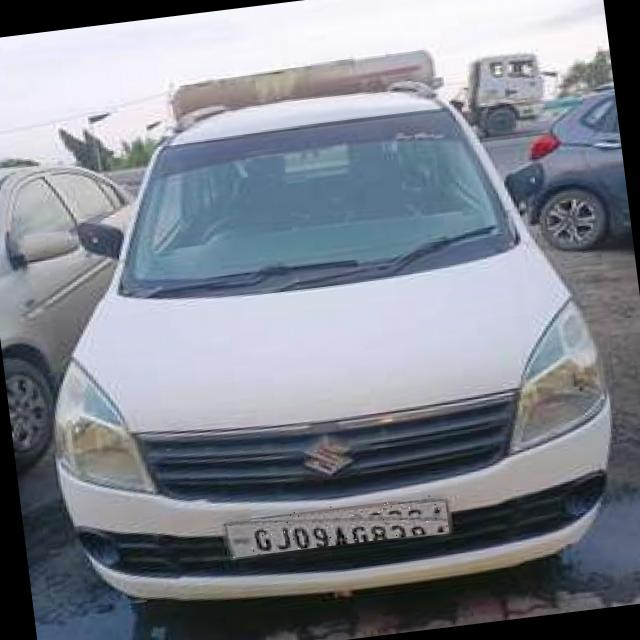Plate: (222, 493, 450, 559)
